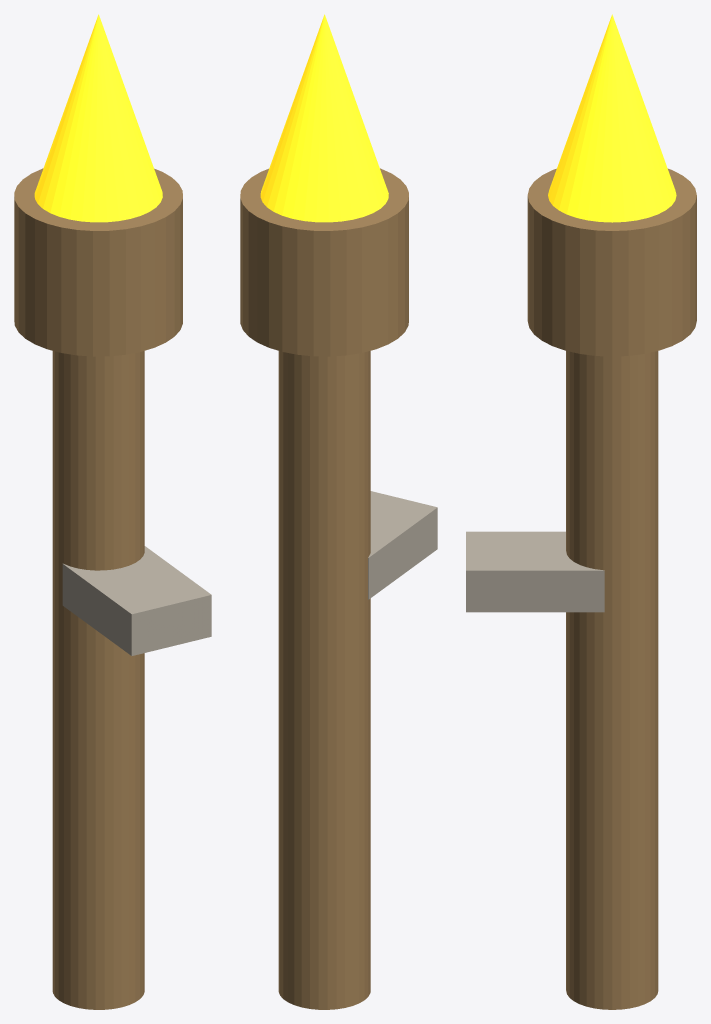
Rendered from torch.glb.
3 renders of one model, left to right at view 1: azimuth 30°, elevation 25°; view 2: azimuth 150°, elevation 25°; view 3: azimuth 270°, elevation 25°, orthographic.
Parts seen in each view (by area): view 1: Cylinder, Cylinder.001, Cone, Cube; view 2: Cylinder, Cylinder.001, Cone, Cube; view 3: Cylinder, Cylinder.001, Cone, Cube.
Part boxes in pixels (box(x1,y1,x2,y2)): Cylinder: box(52, 351, 144, 1009); Cylinder.001: box(14, 168, 182, 356); Cone: box(34, 14, 162, 222); Cube: box(62, 546, 211, 655); Cylinder: box(278, 351, 370, 1009); Cylinder.001: box(240, 168, 408, 356); Cone: box(260, 14, 388, 222); Cube: box(368, 491, 437, 599); Cylinder: box(566, 351, 658, 1009); Cylinder.001: box(527, 168, 696, 356); Cone: box(548, 14, 676, 222); Cube: box(466, 531, 604, 612).
Size of the model in its own units: 0.22 by 1.4 by 0.3.
